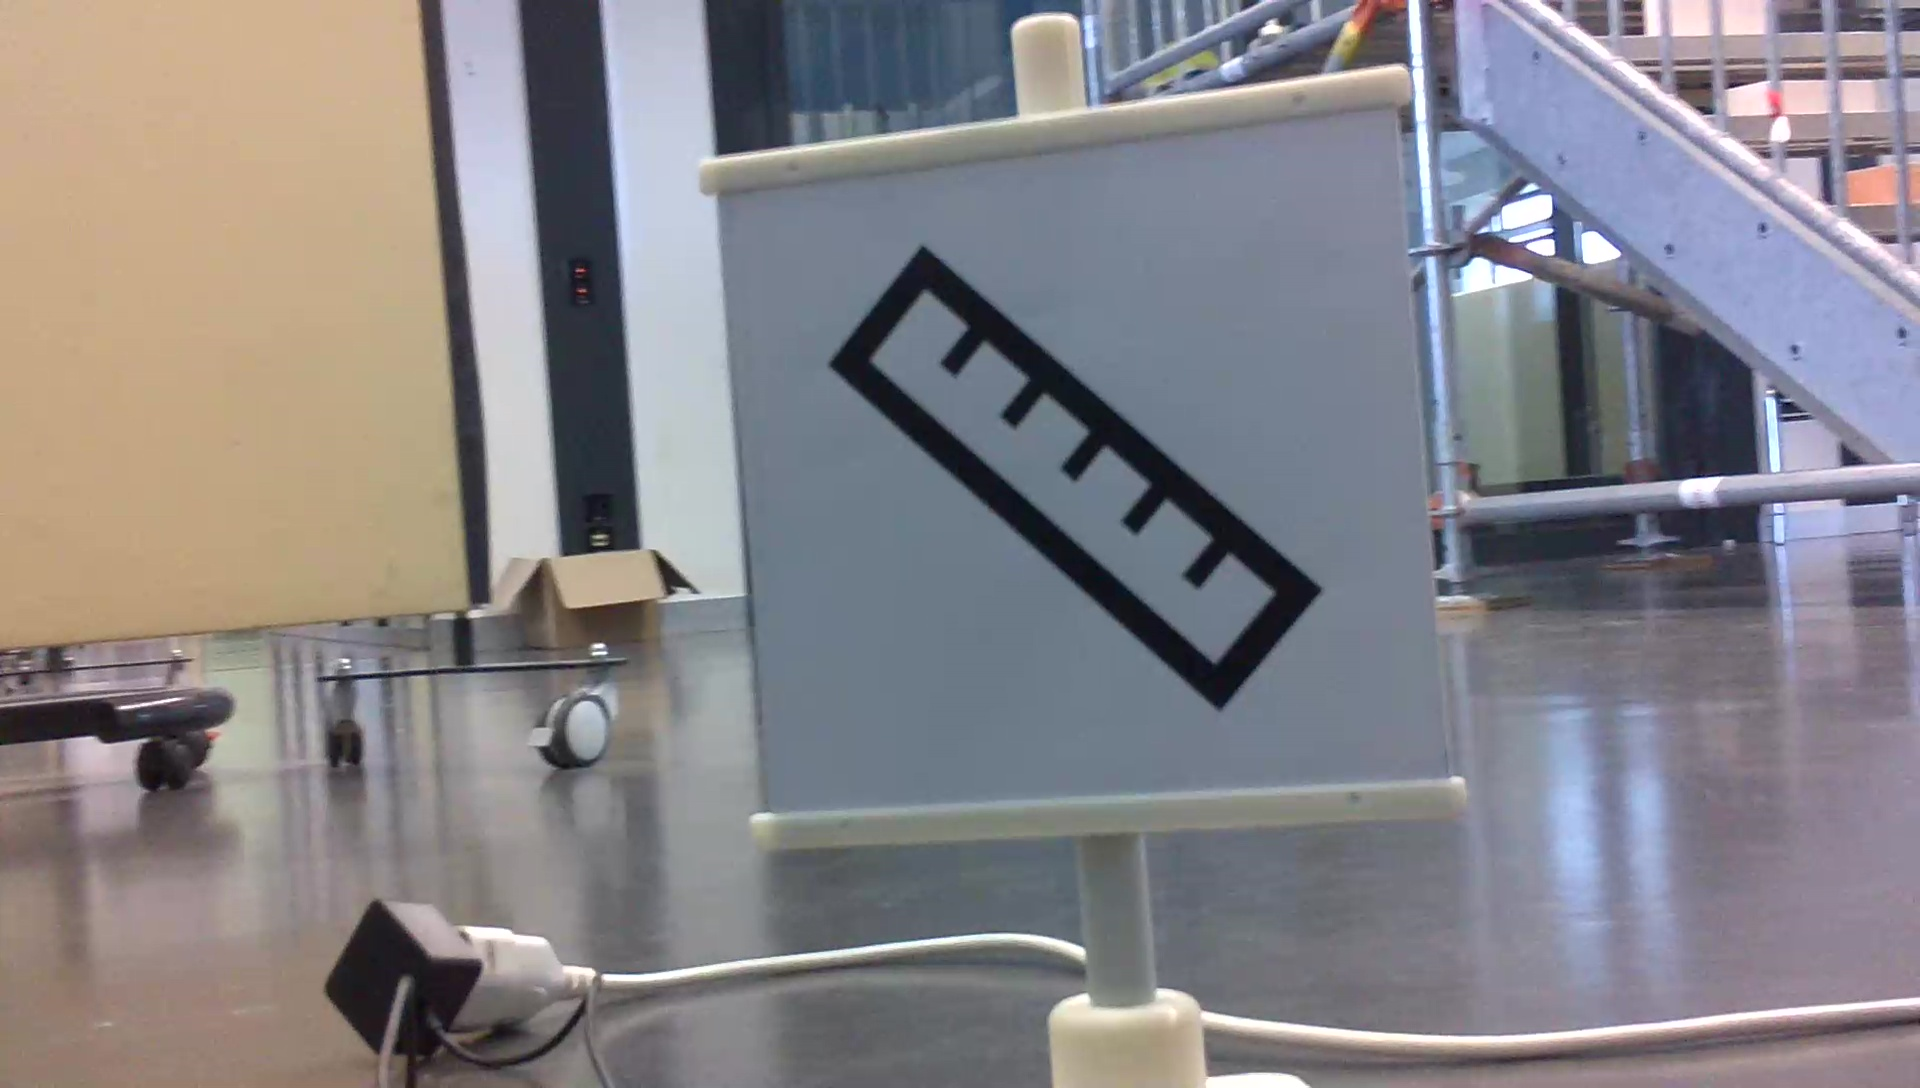ruler: (825, 231, 1325, 719)
